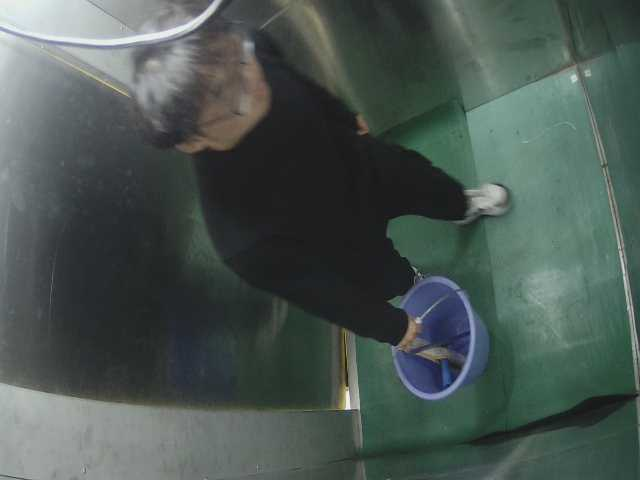bucket: (384, 268, 512, 411)
person: (95, 9, 520, 286)
